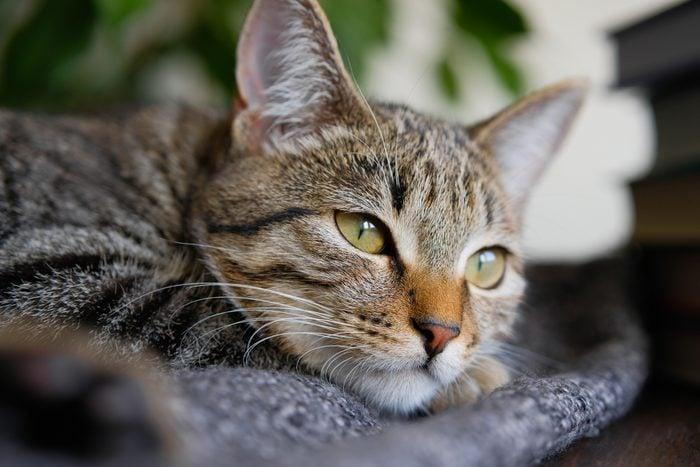cat: (155, 23, 609, 430)
